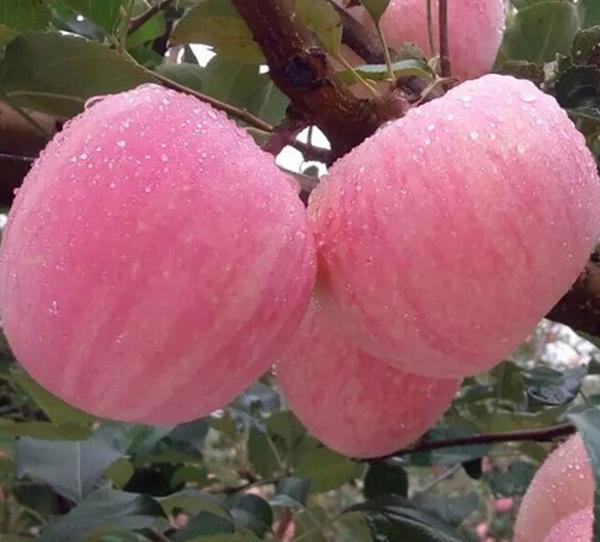apple: (1, 81, 318, 428), (306, 72, 600, 379)
